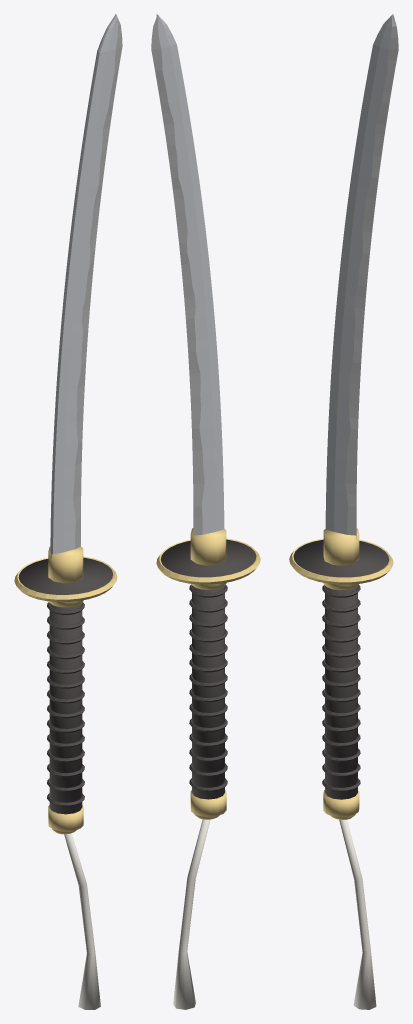
File: kurogane_wakizashi.glb
The picture shows the model from 3 angles, left to right: view 1: azimuth 30°, elevation 25°; view 2: azimuth 210°, elevation 25°; view 3: azimuth 330°, elevation 25°; orthographic projection.
Parts seen in each view (by area): view 1: G_kurogane_wakizashi; view 2: G_kurogane_wakizashi; view 3: G_kurogane_wakizashi.
Boxes of the visible parts, x1,y1,x2,y2 form: G_kurogane_wakizashi: (14, 14, 122, 1009); G_kurogane_wakizashi: (151, 14, 260, 1009); G_kurogane_wakizashi: (289, 14, 398, 1009).
Size of the model in its own units: 0.1216 by 1.12 by 0.0997.
